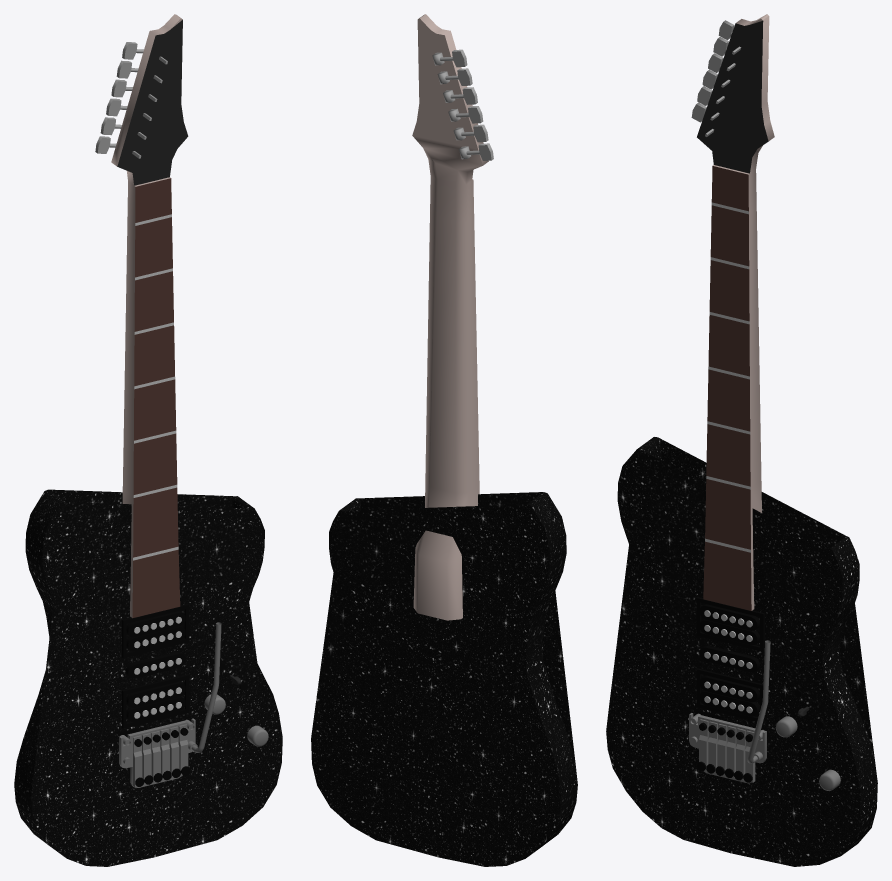
Rendered from Ibanez Guitar.fbx.
3 renders of one model, left to right at view 1: azimuth 30°, elevation 25°; view 2: azimuth 150°, elevation 25°; view 3: azimuth 330°, elevation 25°, orthographic.
Visible parts, largest first — view 1: Ryans Guitar; view 2: Ryans Guitar; view 3: Ryans Guitar.
Boxes of the visible parts, x1,y1,x2,y2 form: Ryans Guitar: (14,14,282,866); Ryans Guitar: (311,14,577,866); Ryans Guitar: (606,14,877,866).
Size of the model in its own units: 0.4773 by 1.51 by 0.128.
Materials: 3 (3 with a texture image).
